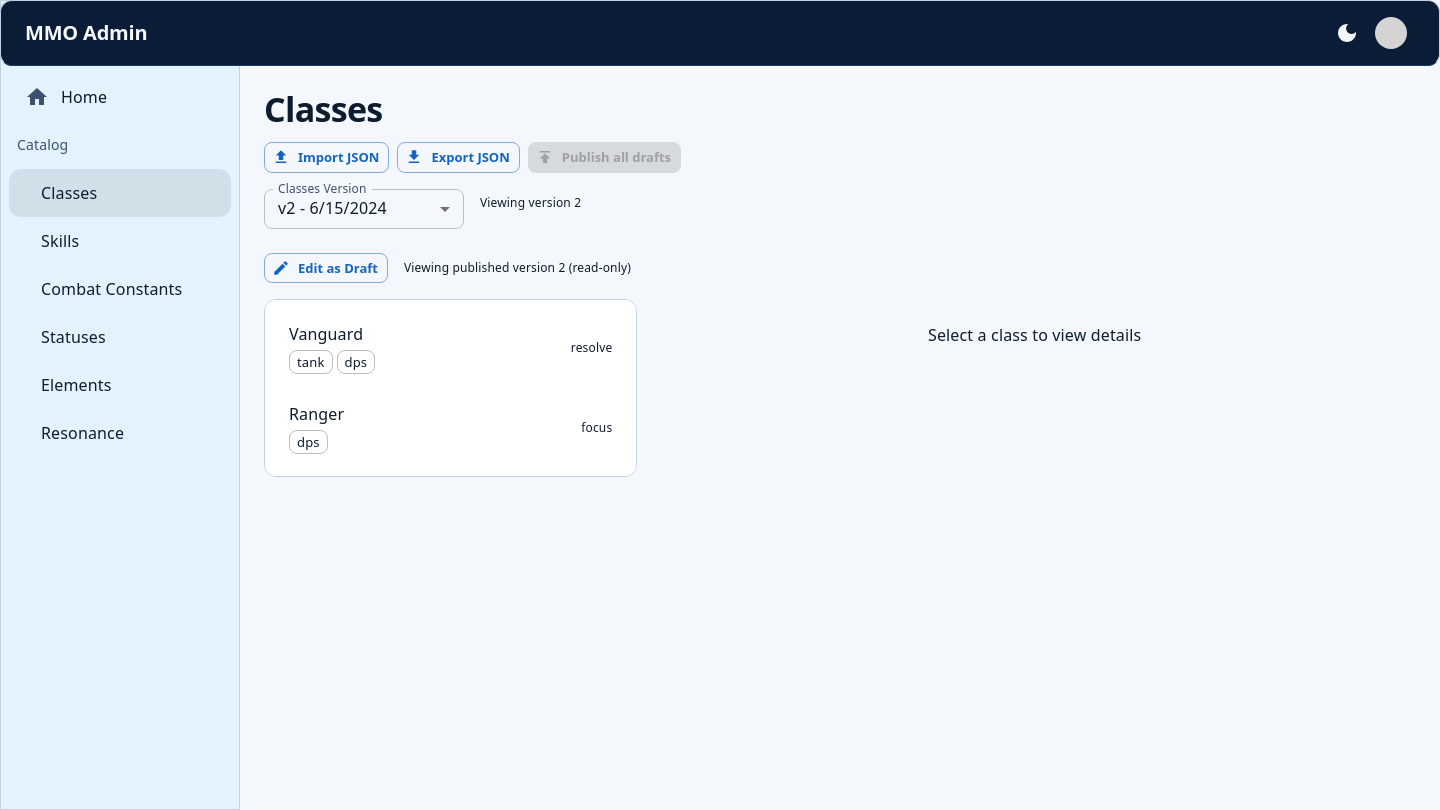
Delete catalog draft entries (MMO-41) › blocks deleting the last entry in a section
This screenshot has width=1440, height=810.
Click the link "Skills" at (60, 241), box [41, 230, 79, 252]
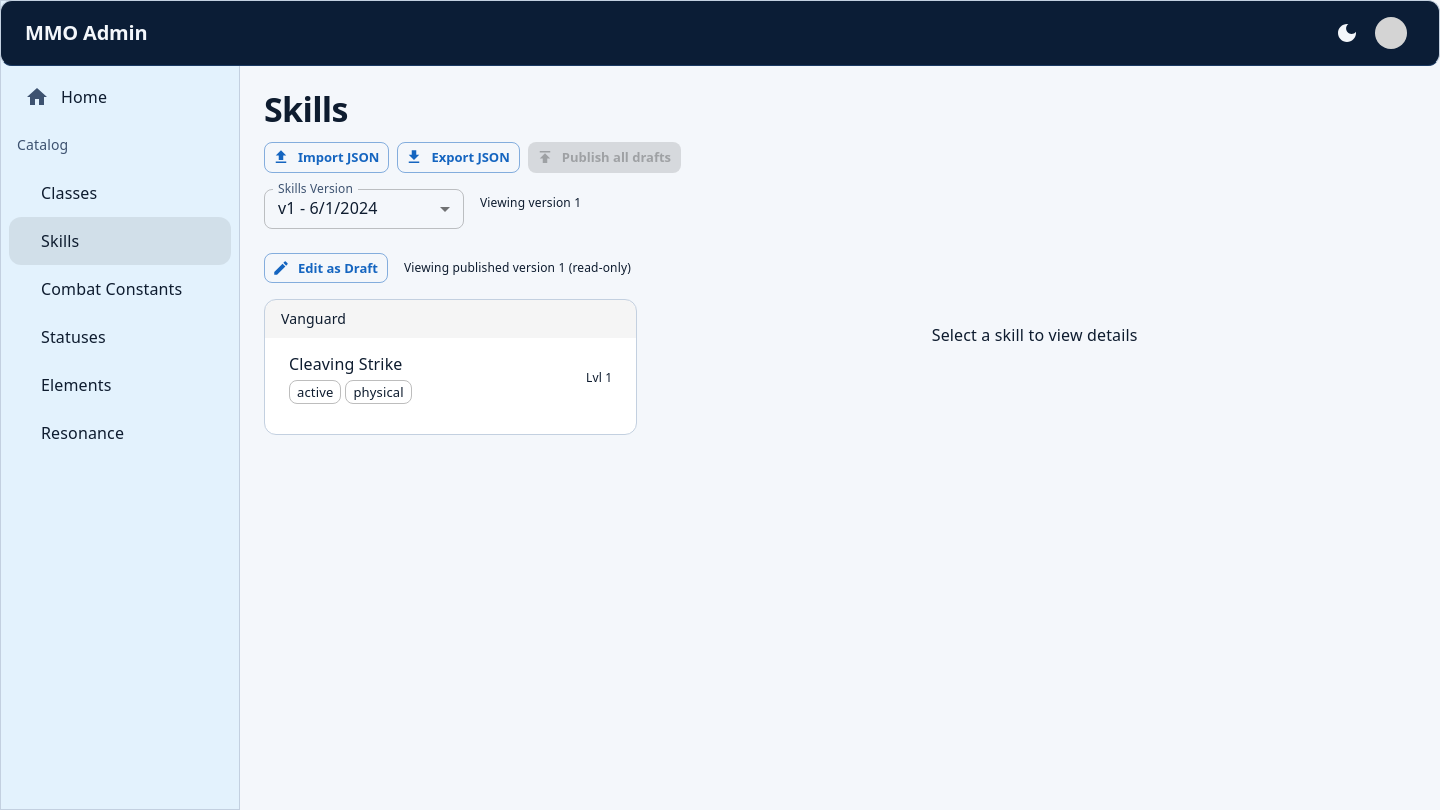
Click the dropdown at (328, 208), box [278, 197, 378, 219]
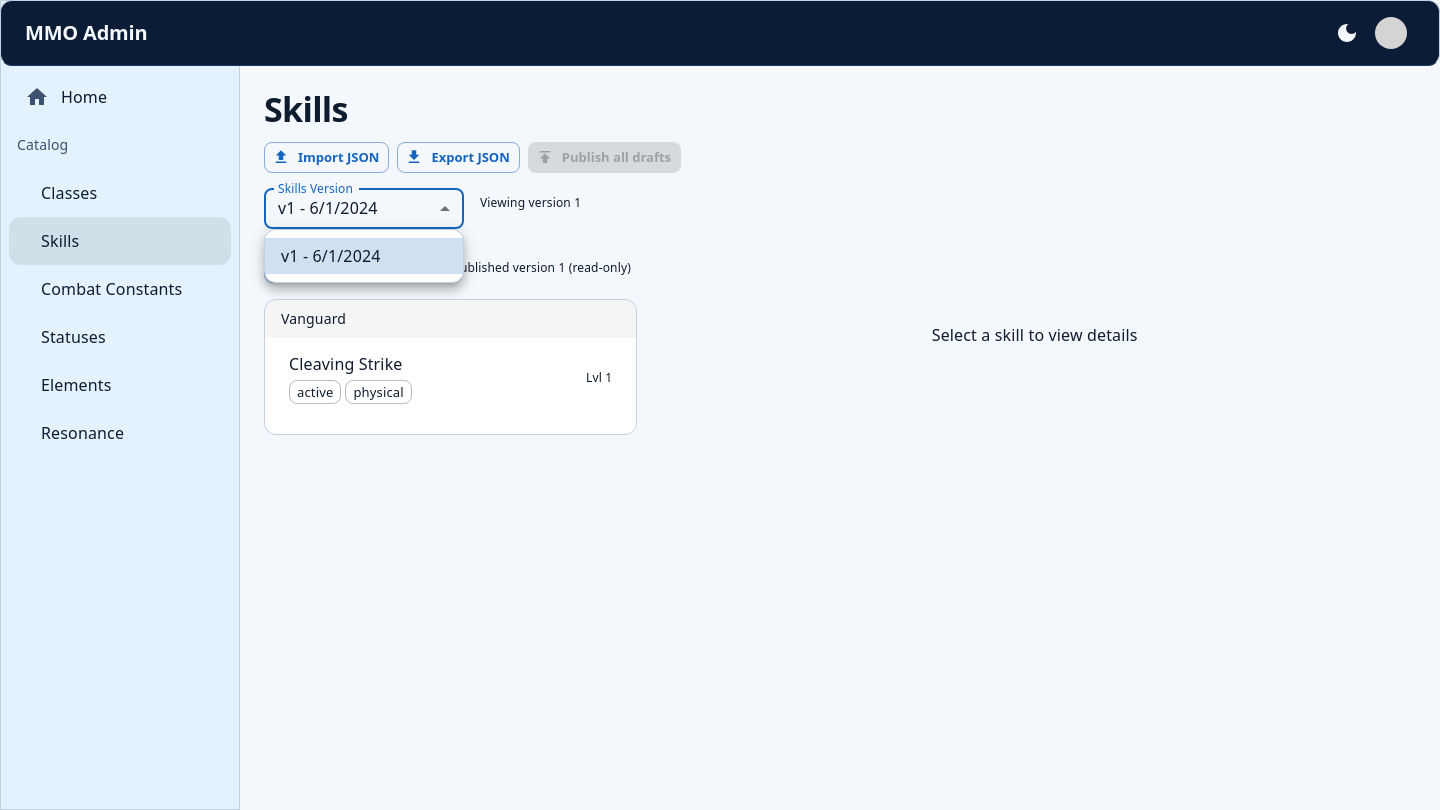
Click the option "v1 - 6/1/2024" at (364, 256), box [265, 238, 463, 274]
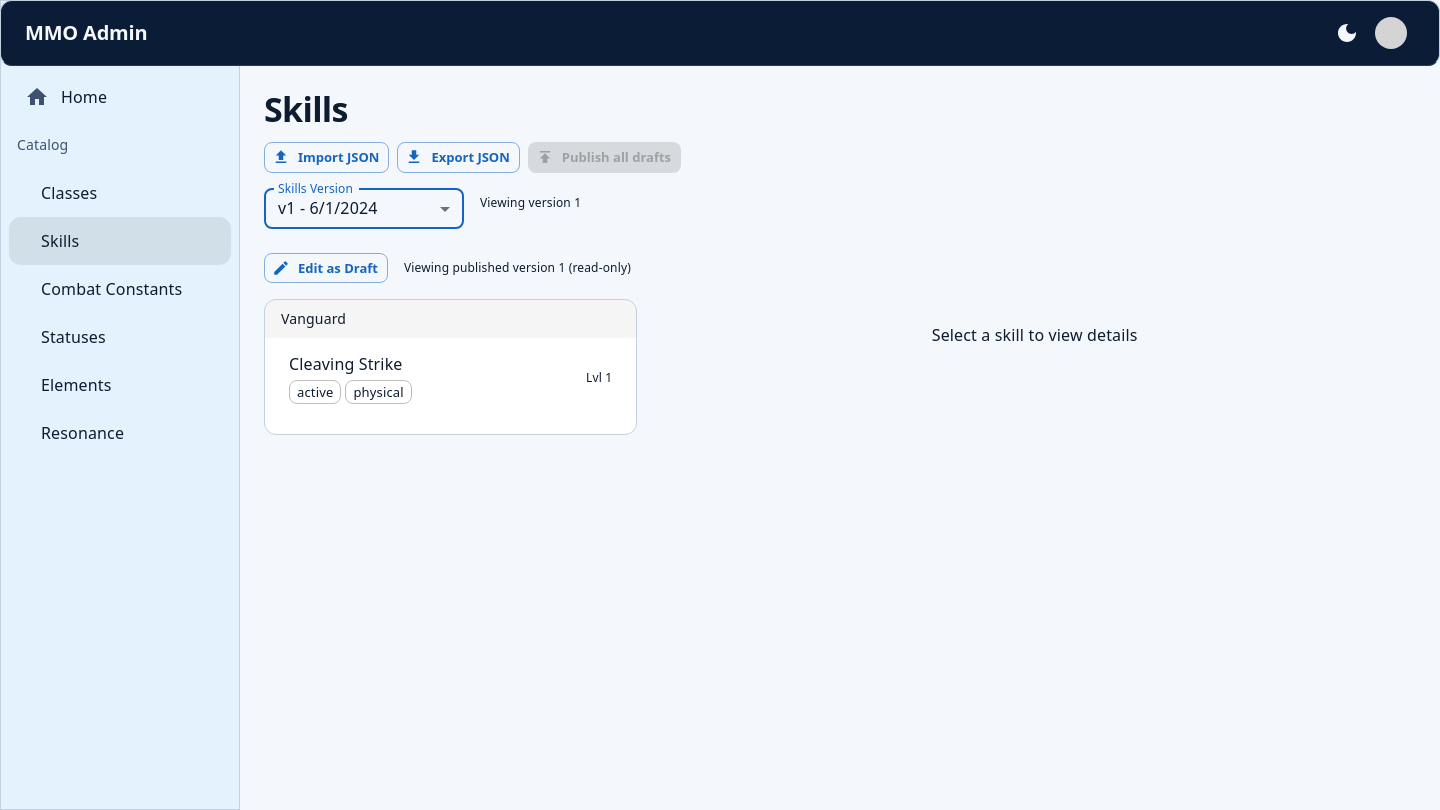
Check: the text "Cleaving Strike" is shown, box [289, 353, 402, 375]
Click the button "Edit as Draft" at (326, 268), box [264, 253, 388, 283]
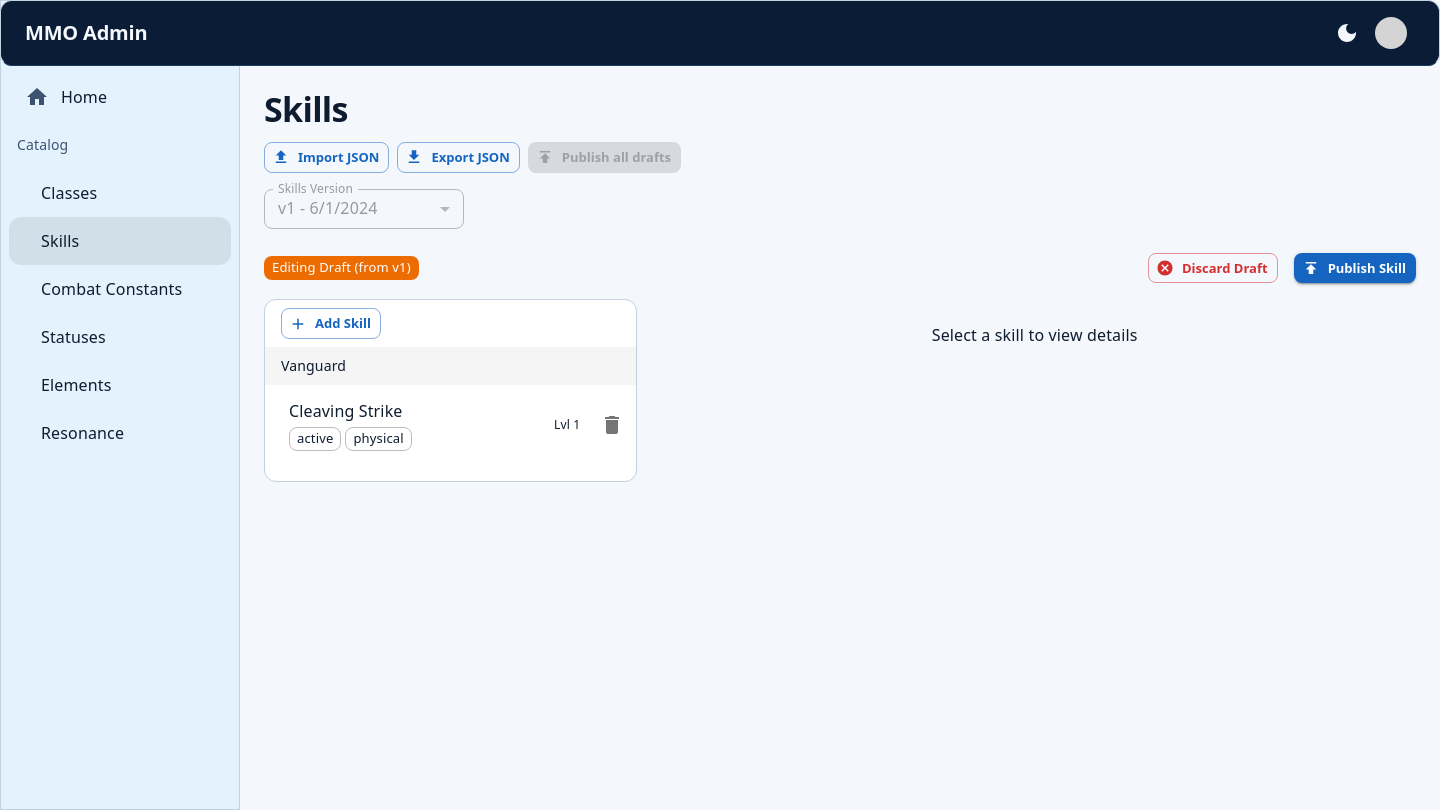
Check: the text "Editing Draft (from v1)" is shown, box [264, 258, 419, 278]
Click the button named "delete cleaving strike" at (612, 425), box [592, 405, 632, 445]
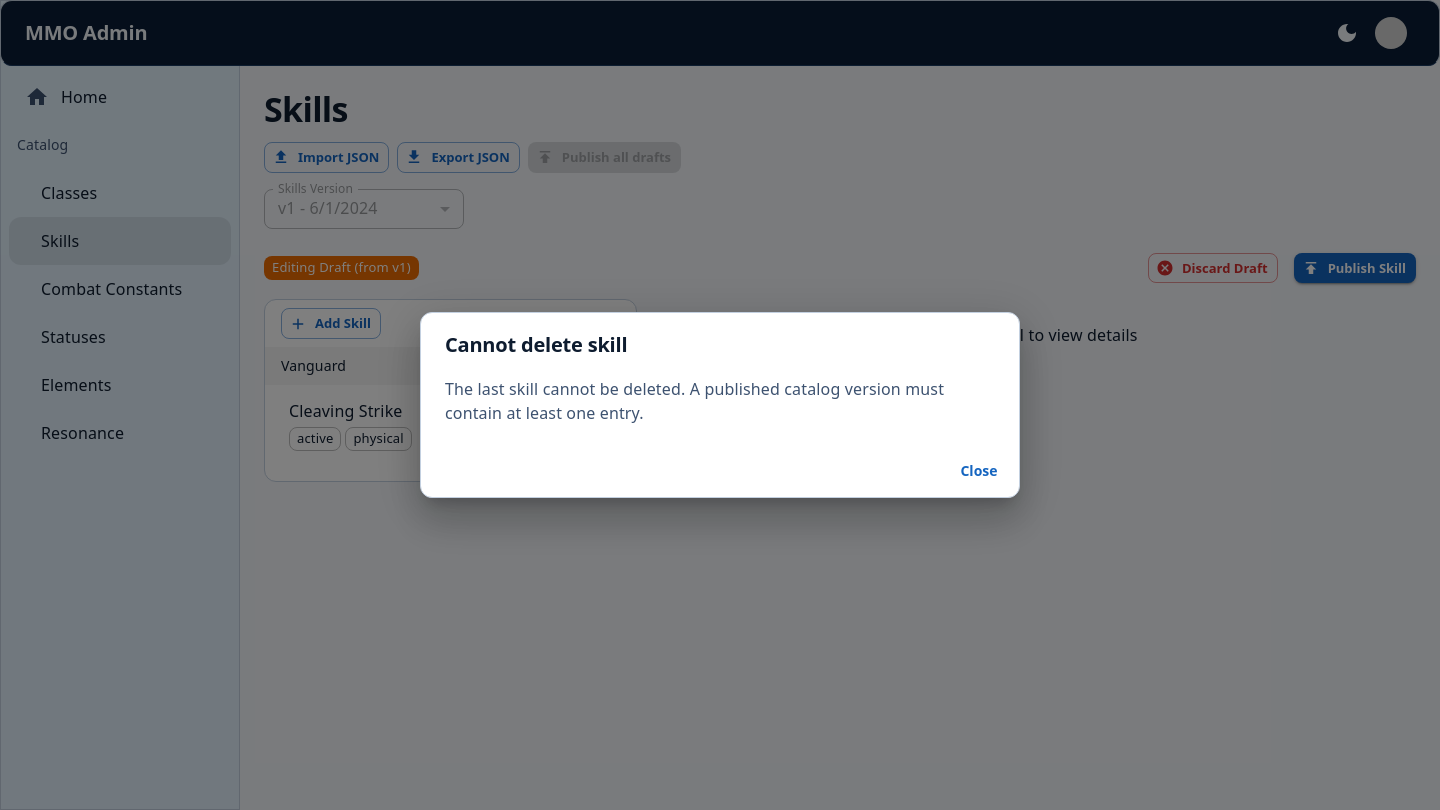
Check: the text "Cleaving Strike" is shown, box [289, 400, 402, 422]
Check: the dialog "Cannot delete skill" is shown, box [420, 312, 1020, 498]
